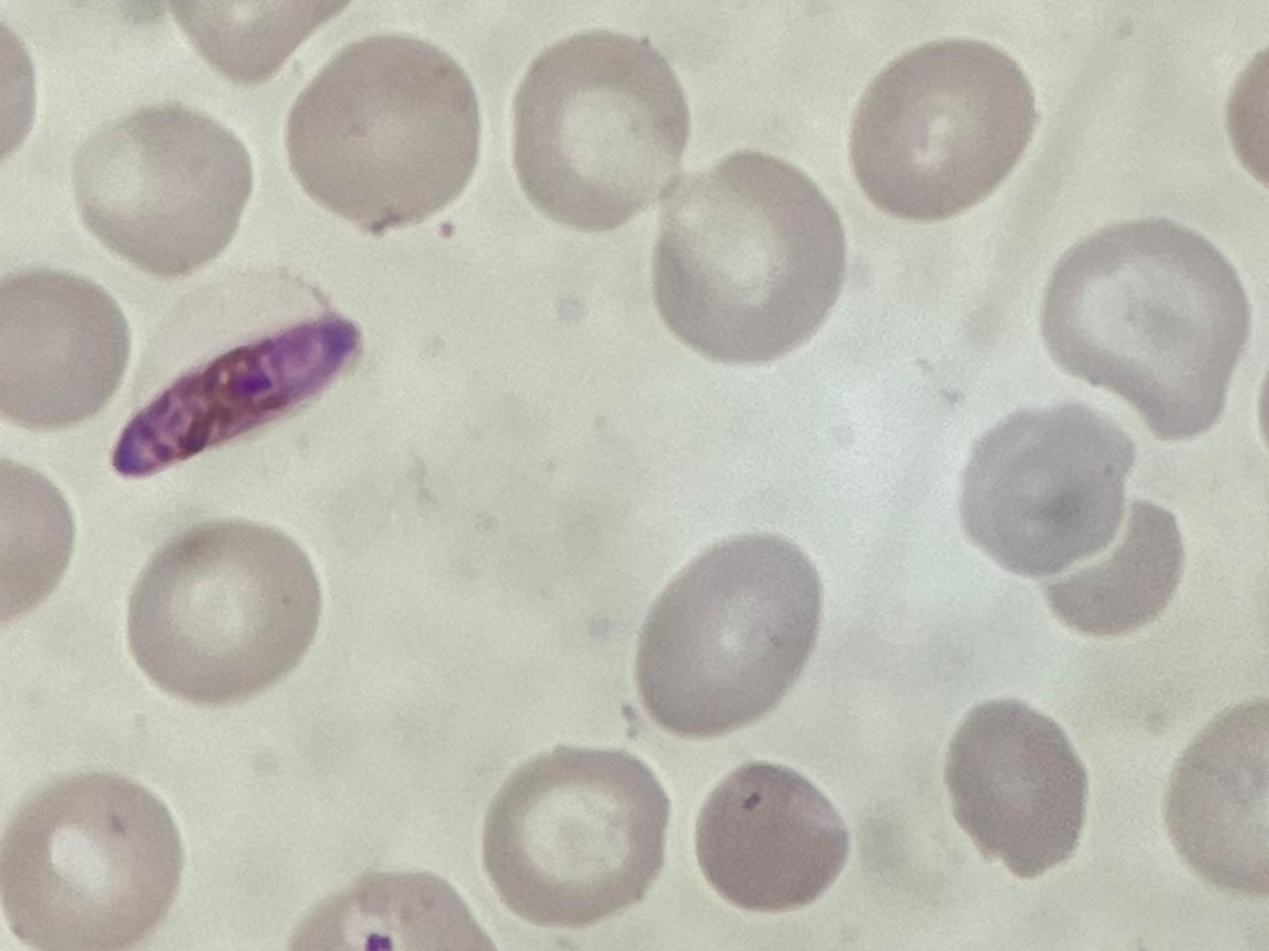Infected: (109, 271, 362, 480)
Uninfected: (1043, 218, 1250, 438), (651, 151, 847, 361), (281, 33, 482, 228), (636, 527, 820, 734), (512, 32, 691, 232), (127, 519, 321, 702), (851, 33, 1036, 221), (482, 747, 668, 924), (0, 772, 180, 951), (69, 103, 254, 275), (958, 397, 1133, 576), (945, 694, 1088, 878), (694, 760, 850, 913), (1163, 699, 1269, 898), (0, 271, 128, 426), (1036, 501, 1179, 639)
